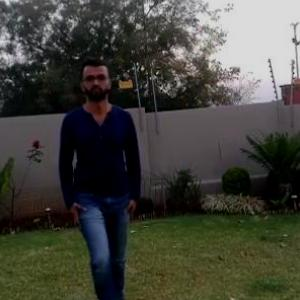follow: (63, 66, 141, 299)
